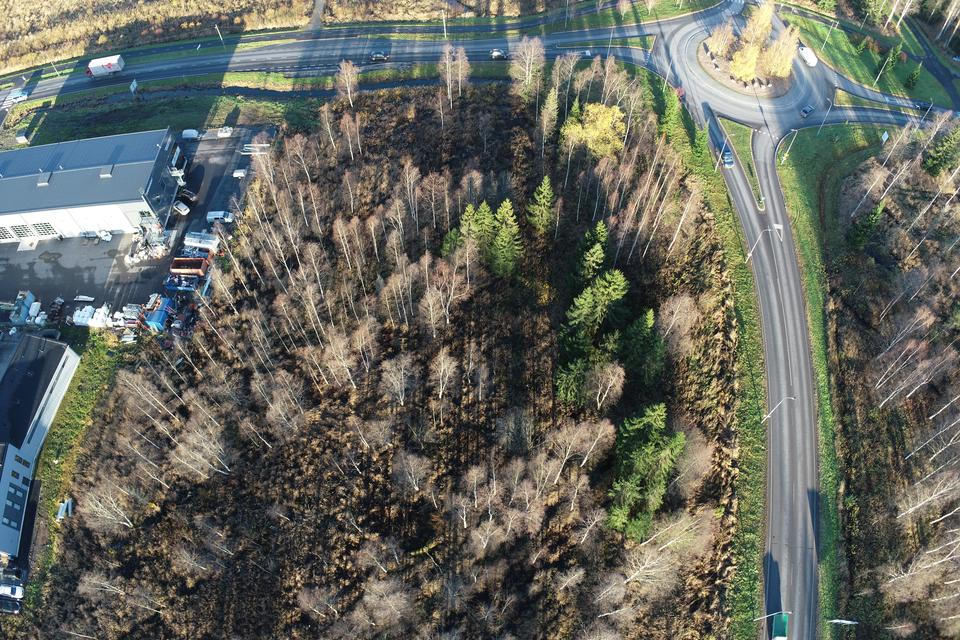intersection: (277, 0, 346, 87)
